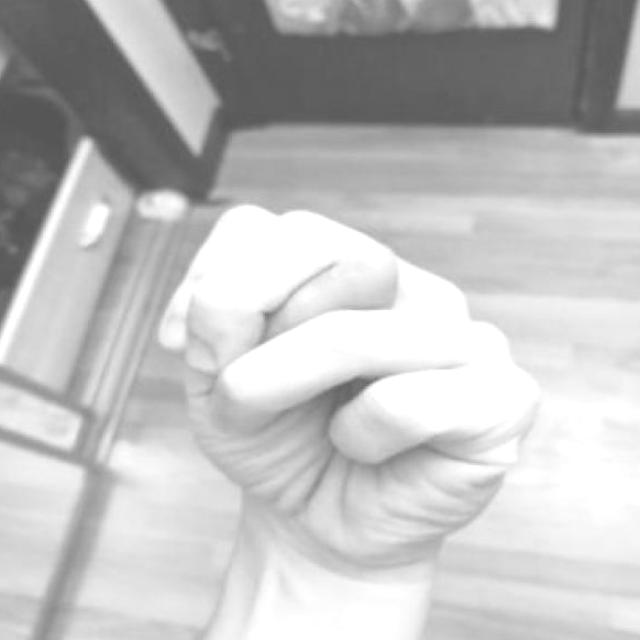N: (136, 188, 568, 606)
